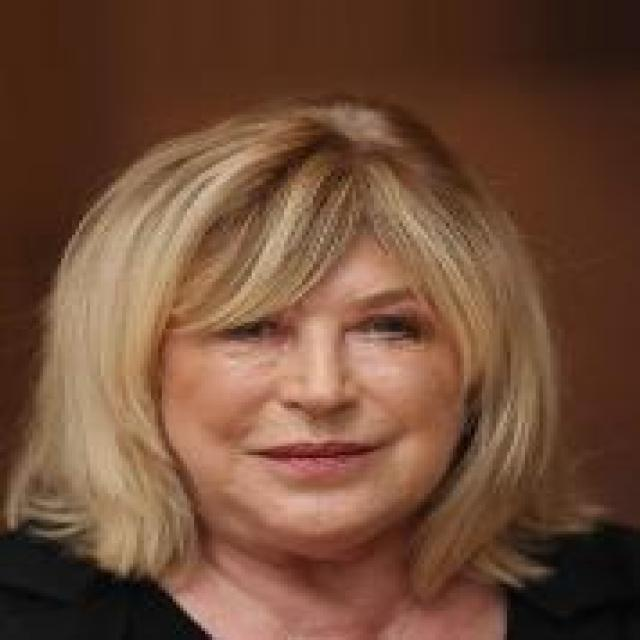nomask: (112, 120, 568, 576)
